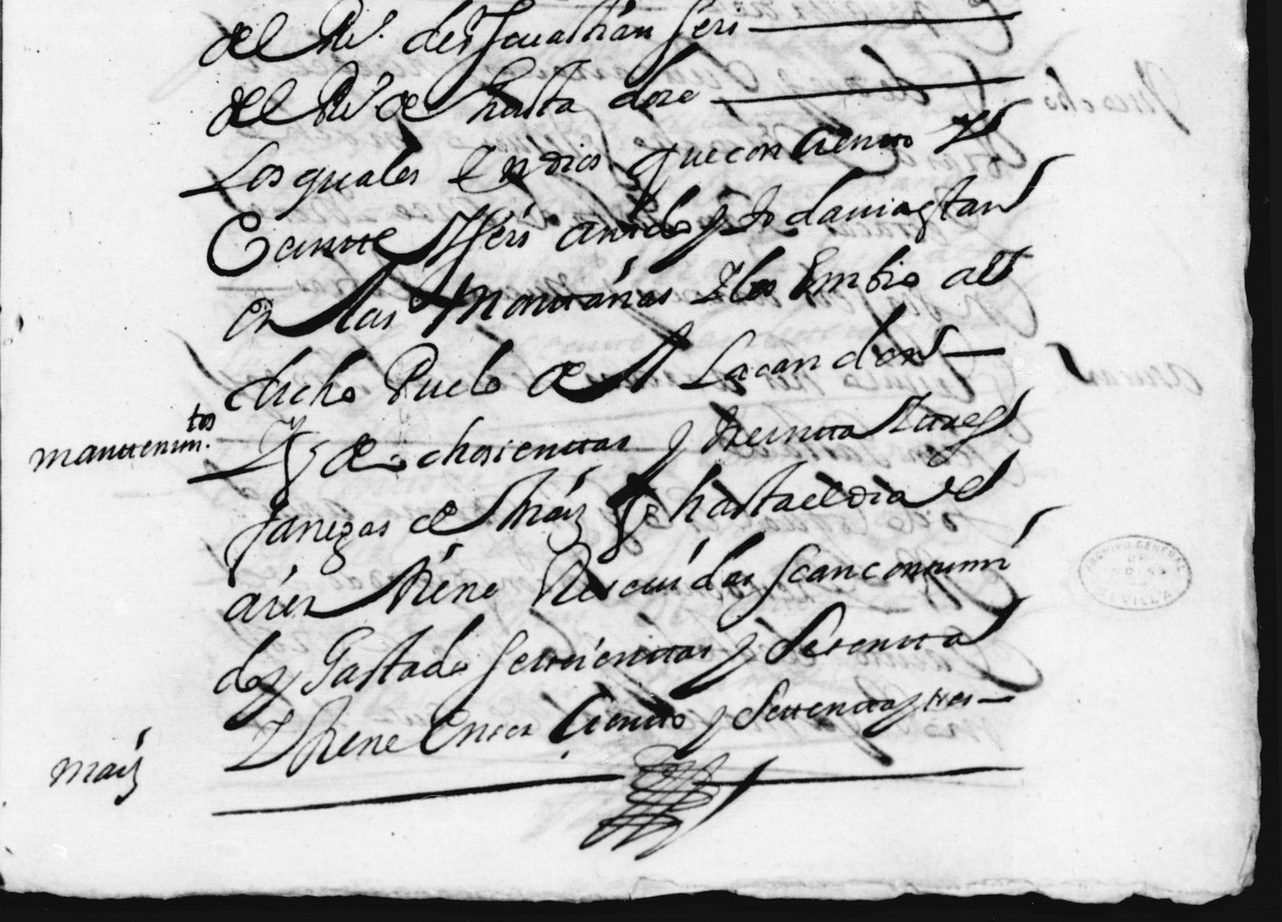lacandon: (678, 300, 959, 389)
